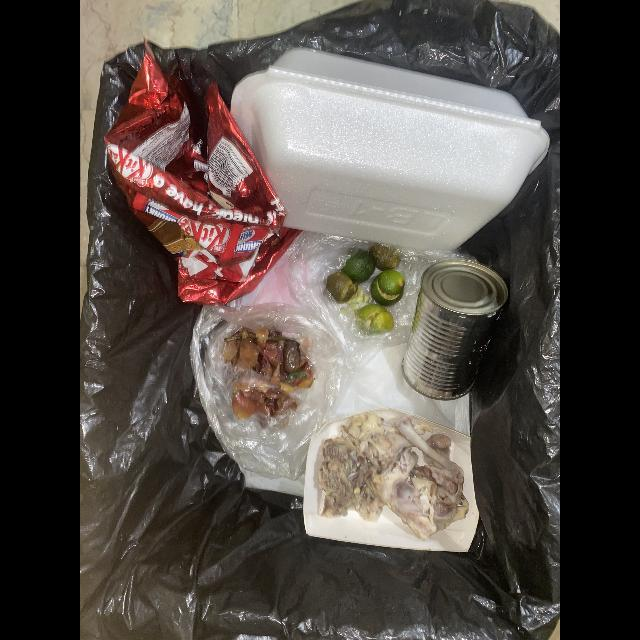biowaste: (318, 411, 469, 541), (223, 328, 313, 420), (327, 272, 370, 310), (370, 270, 405, 307), (343, 249, 374, 285), (357, 304, 394, 333), (370, 243, 403, 270)
metal: (401, 260, 509, 402)
paper: (303, 408, 480, 554)
plastic: (189, 303, 354, 481), (287, 231, 477, 359)
styrofoam: (229, 48, 552, 254)
wrapper: (104, 41, 302, 306)
